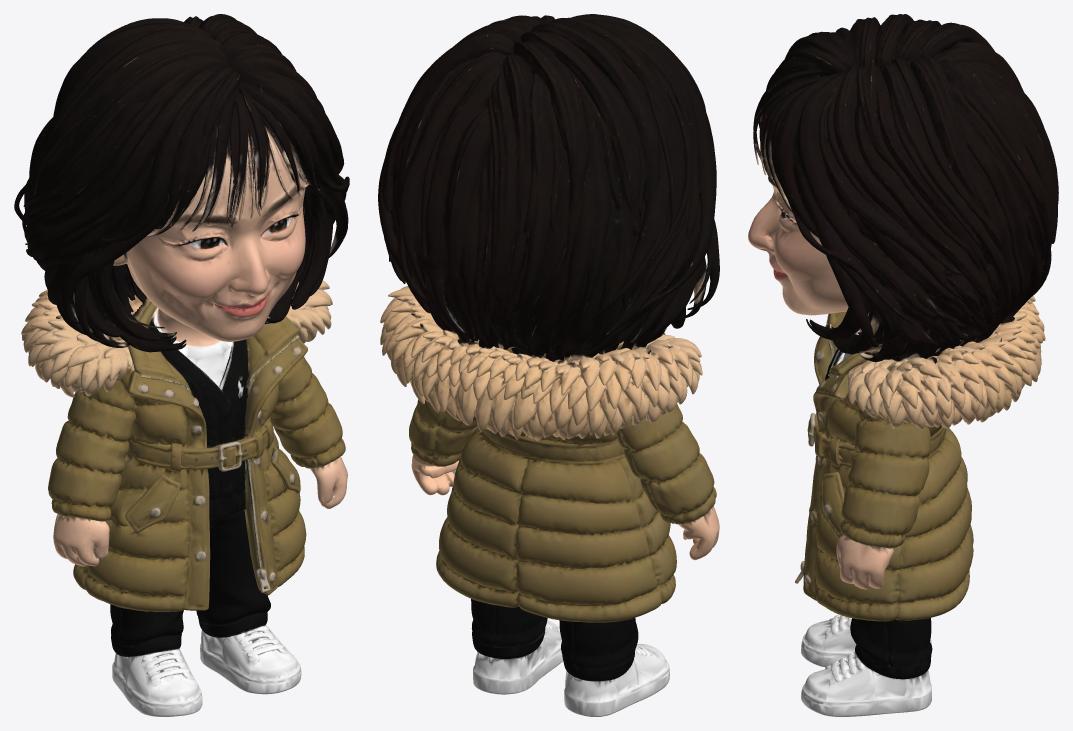
The model's file is family_mom.glb.
The picture shows the model from 3 angles, left to right: view 1: azimuth 30°, elevation 25°; view 2: azimuth 150°, elevation 25°; view 3: azimuth 270°, elevation 25°; orthographic projection. The views are drawn at different scales.
Size of the model in its own units: 0.9306 by 1.9 by 0.8256.
1 material, 1 textured.
